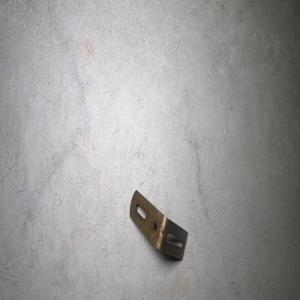MetalPart: (128, 188, 188, 261)
